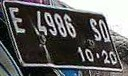plate: (2, 1, 125, 71)
